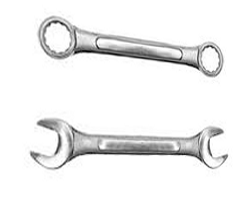Wrench: (30, 98, 236, 175)
